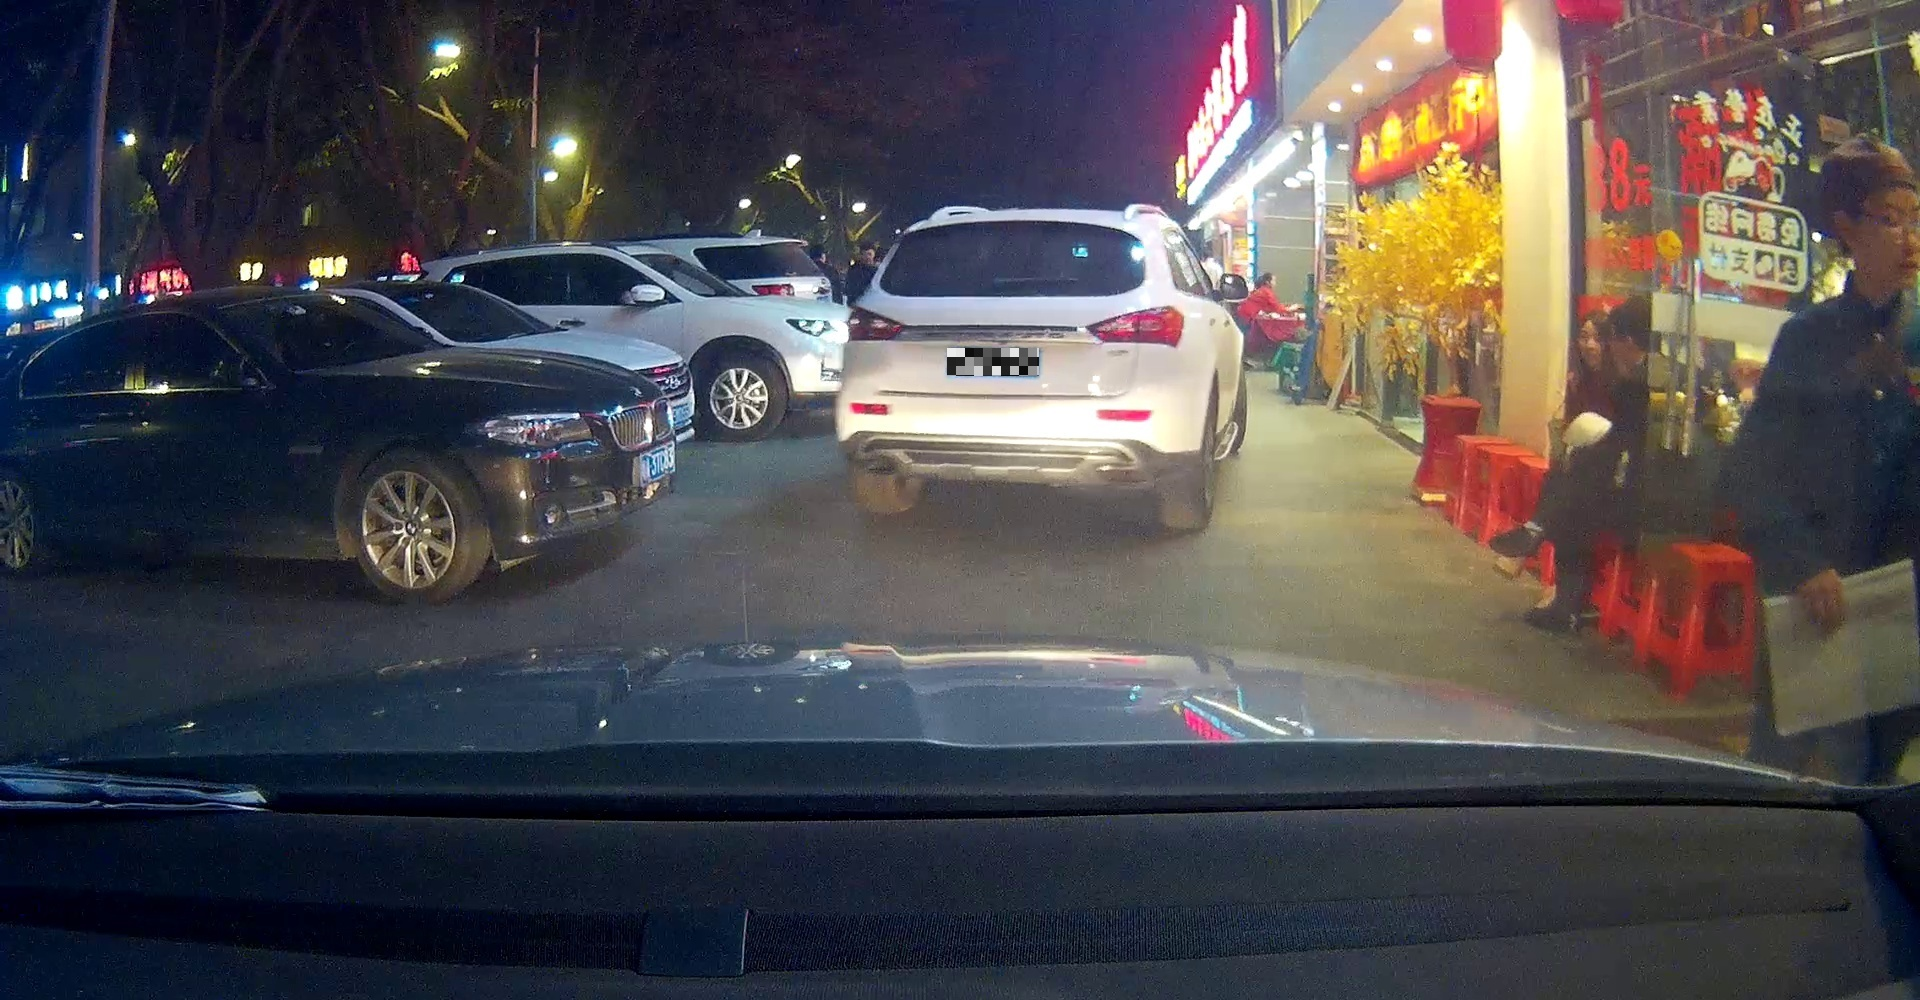L_light: (844, 305, 903, 341)
R_light: (1084, 305, 1183, 348)
T_light: (990, 223, 1026, 231)
night-no: (834, 209, 1189, 530)
plate_1: (947, 348, 1039, 376)
